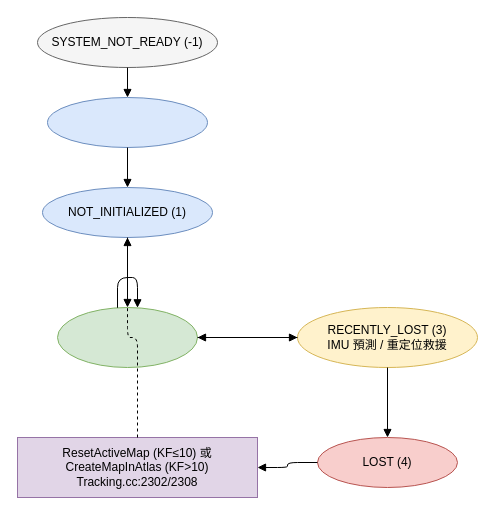
The diagram is 495 pixels wide and 515 high, and some of its shapes have lost their labels. The shapes that lost their labels are listed below. From the top down, each one's box as (x1, y1, x2, y2) in pixels, then its label:
(46, 96, 208, 148): NO_IMAGES_YET (0)
(56, 306, 198, 368): OK (2) 正常追蹤
